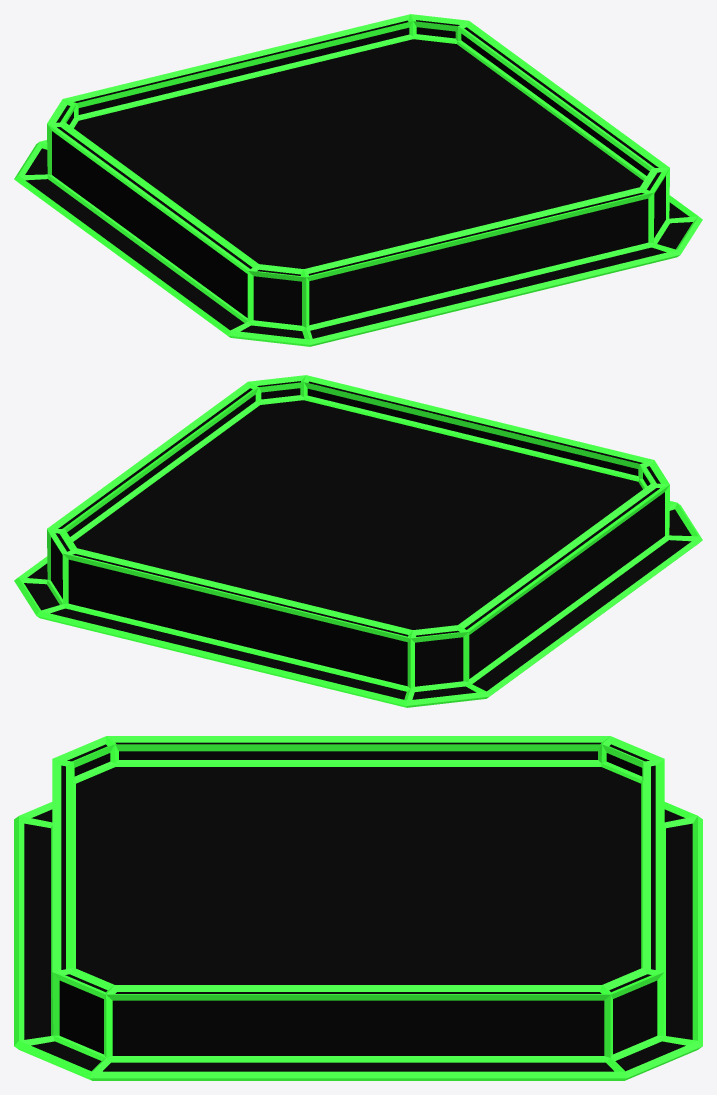
The picture shows the model from 3 angles, top to bottom: view 1: azimuth 30°, elevation 25°; view 2: azimuth 150°, elevation 25°; view 3: azimuth 270°, elevation 25°; orthographic projection. The views are drawn at different scales.
Parts seen in each view (by area): view 1: Plane, Plane.001; view 2: Plane, Plane.001; view 3: Plane, Plane.001.
Part boxes in pixels (box(x1,y1,x2,y2)): Plane: box(25, 20, 692, 338); Plane.001: box(14, 14, 702, 346); Plane: box(24, 381, 691, 699); Plane.001: box(14, 375, 702, 707); Plane: box(24, 742, 692, 1071); Plane.001: box(14, 736, 702, 1080).
Size of the model in its own units: 2.03 by 0.2368 by 2.03.
